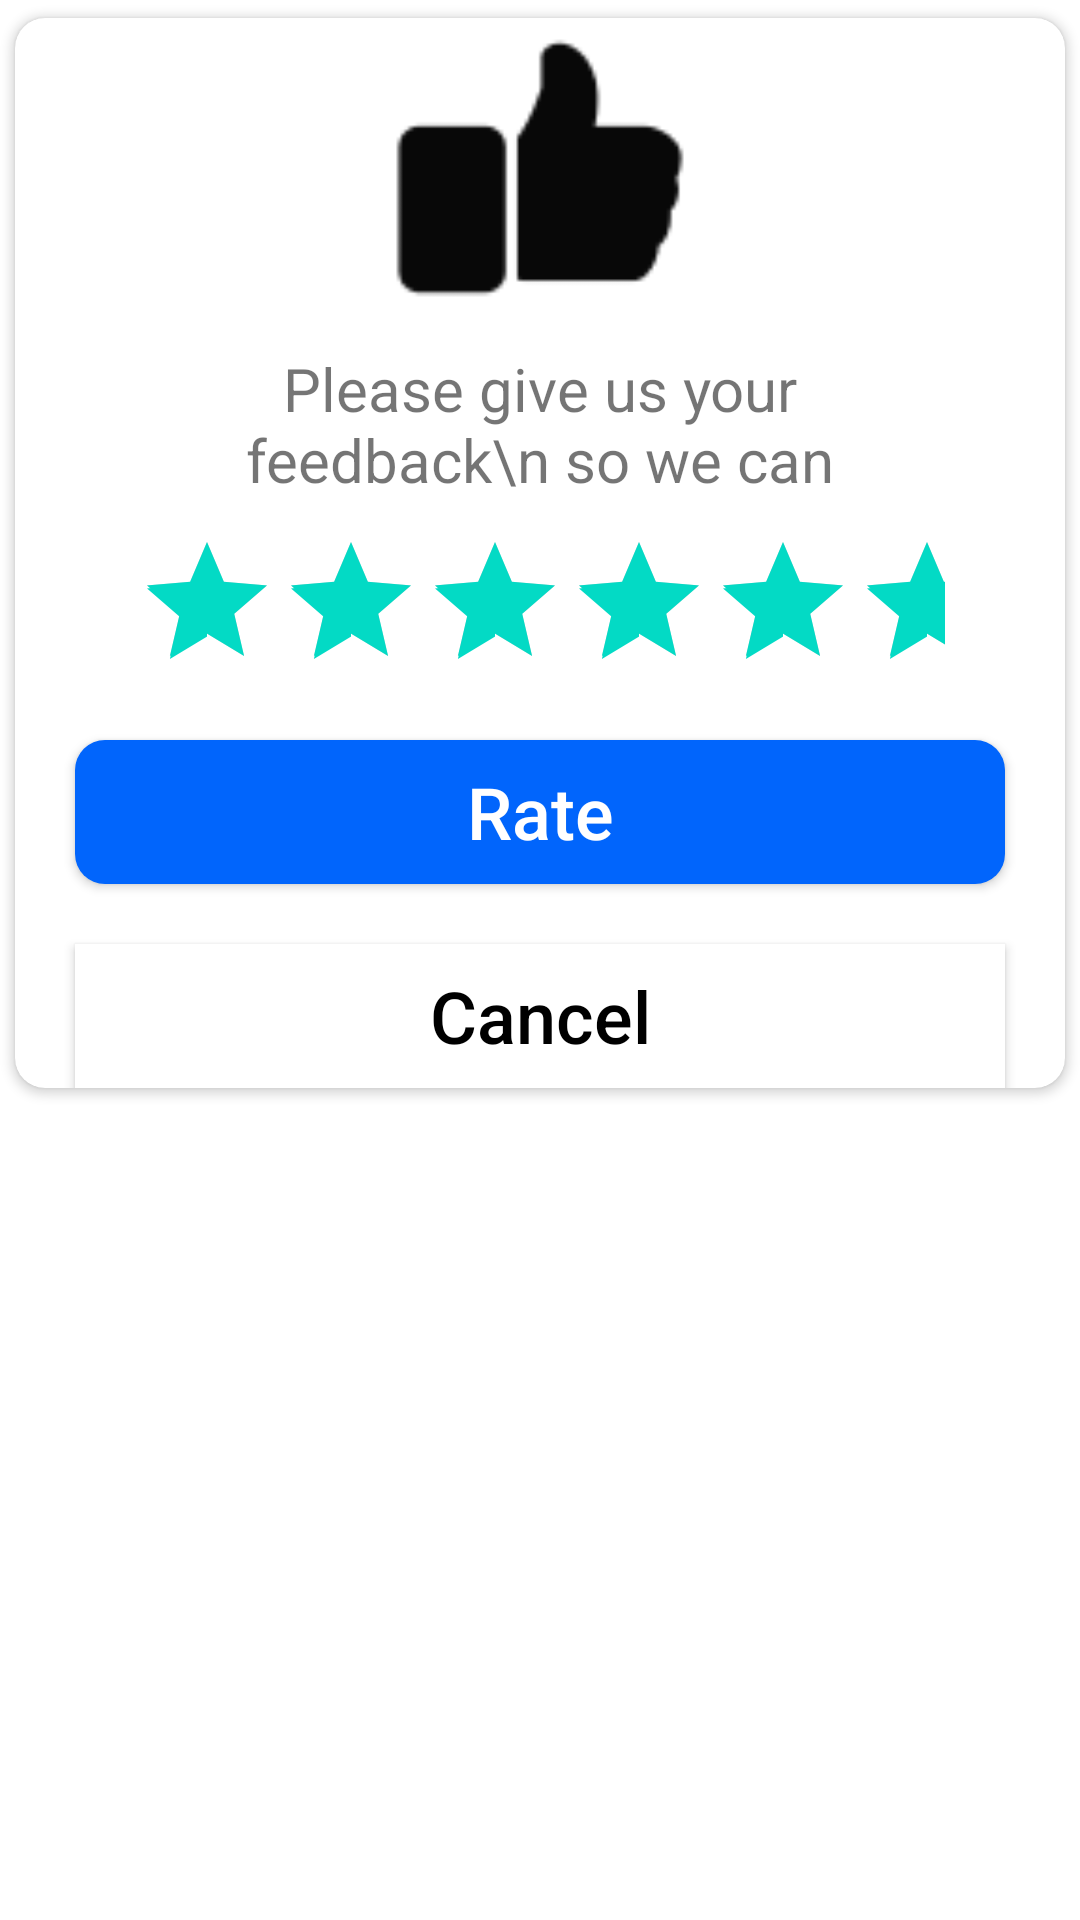

Where icons sit on this 1080 x 1920 app screen, as (left=x1, top=y1, right=x2, bottom=y2):
like: (left=396, top=40, right=684, bottom=296)
